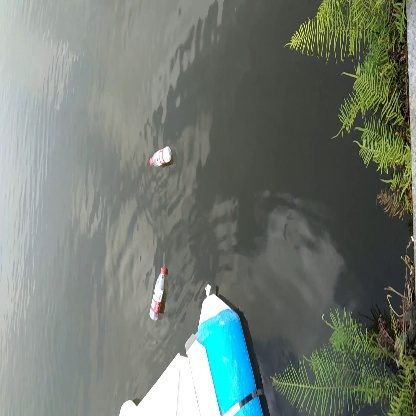bottle: (149, 267, 170, 322), (146, 144, 175, 172)
